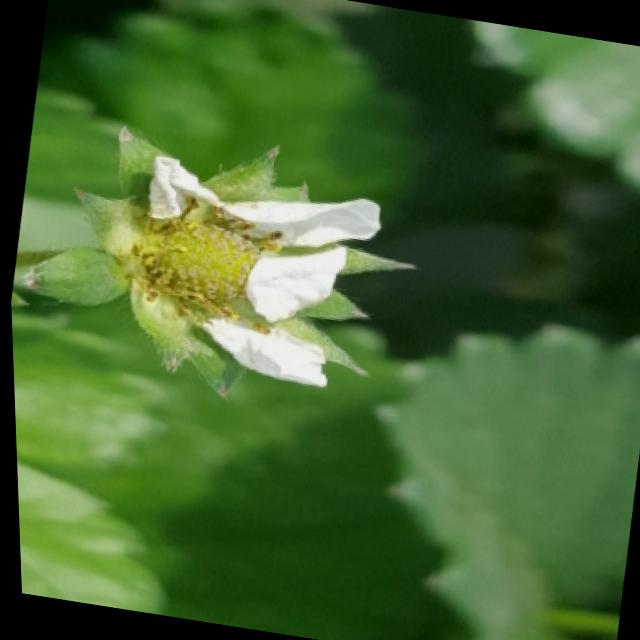Blossom Blight: (123, 194, 287, 339)
